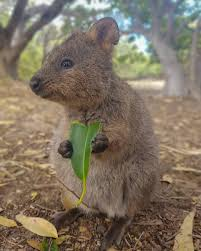quokka: (27, 7, 181, 237)
